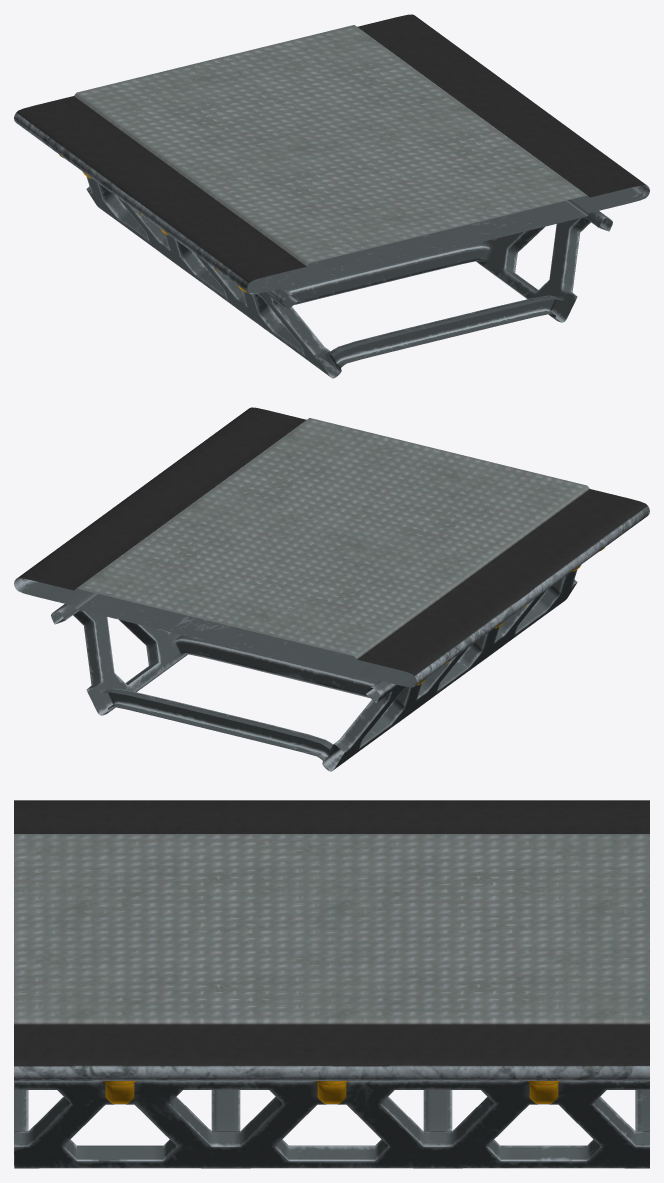
File: catwalk.glb
3 renders of one model, top to bottom at view 1: azimuth 30°, elevation 25°; view 2: azimuth 150°, elevation 25°; view 3: azimuth 270°, elevation 25°, orthographic. The views are drawn at different scales.
Visible parts, largest first — view 1: catwalk; view 2: catwalk; view 3: catwalk.
Boxes of the visible parts, x1,y1,x2,y2 form: catwalk: [14, 14, 649, 378]; catwalk: [14, 407, 649, 771]; catwalk: [14, 800, 649, 1168].
Bounding box in the file's own units: 0.9973 × 0.2867 × 1.
Materials: 1 (1 with a texture image).
